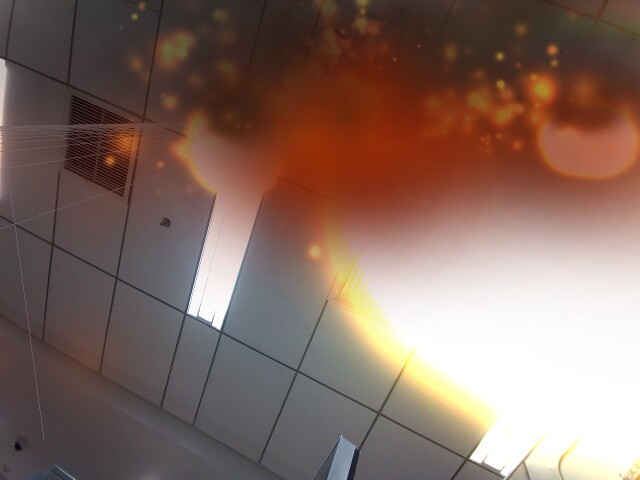fire: (321, 72, 637, 462), (185, 97, 290, 197), (531, 94, 634, 180)
